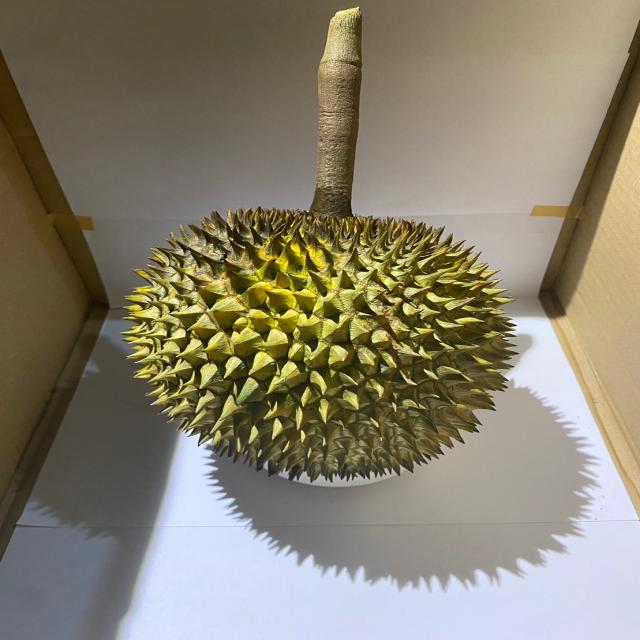immature: (119, 204, 520, 478)
